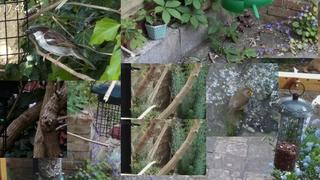robin: (226, 87, 254, 118)
sparrow: (24, 24, 97, 69)
